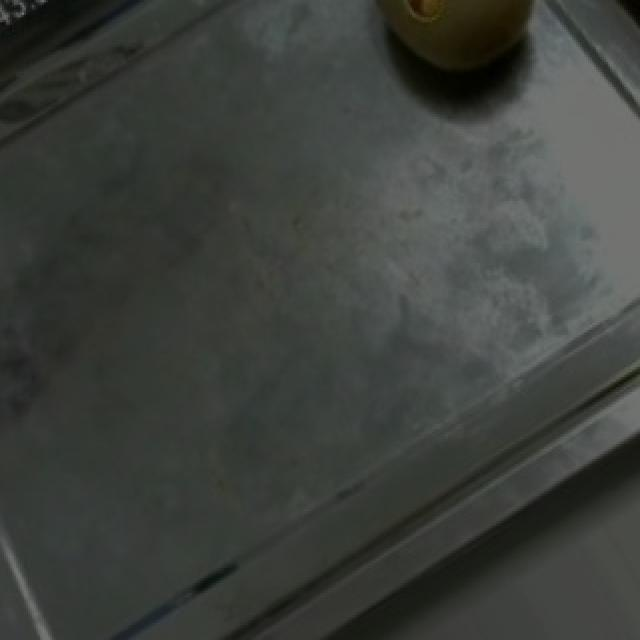Fruit: (334, 0, 572, 131)
